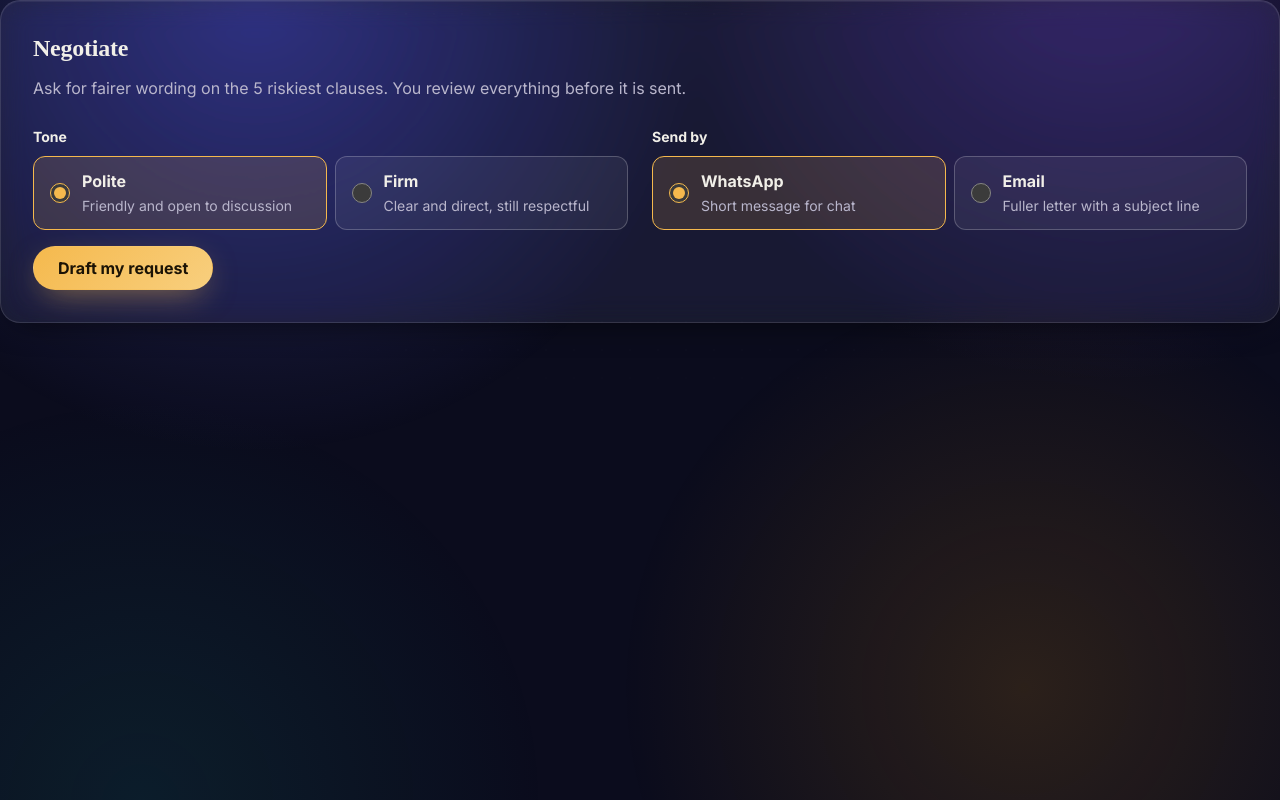
Test case: NegotiatePanel › drafts an email with the risky clauses and shows current → fairer wording
The width and height of the screenshot is (1280, 800).
Click the radio button labelled "Firm Clear and direct, still respectful": click(362, 193) [352,183,372,203]
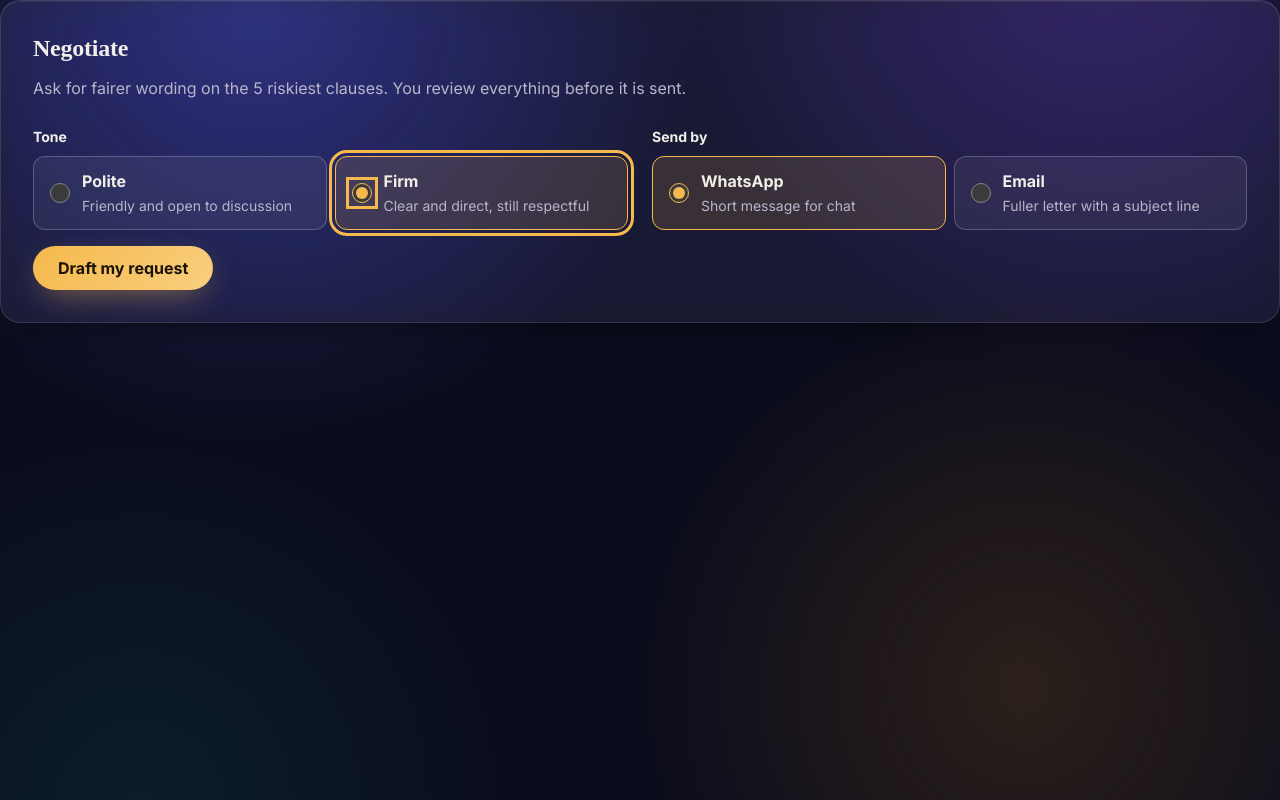
Click the radio button labelled "Email Fuller letter with a subject line": click(980, 193) [970,183,990,203]
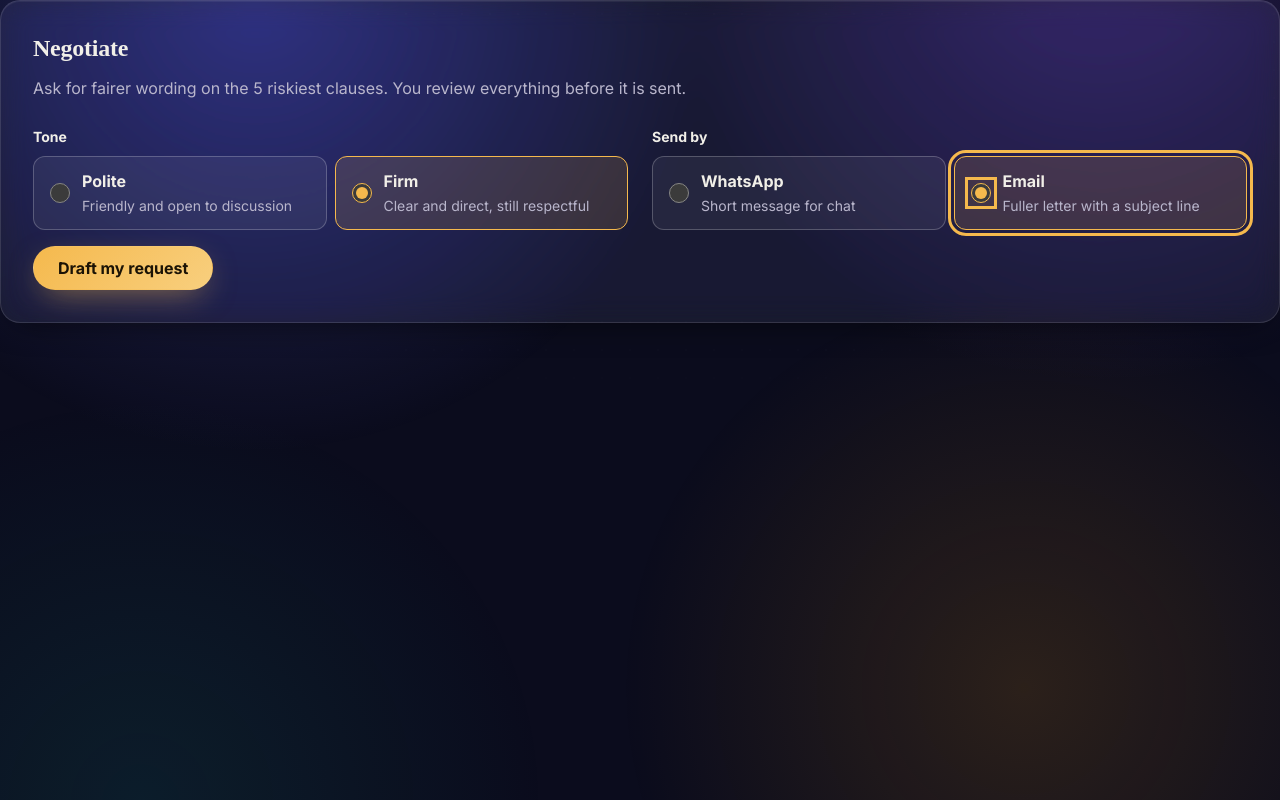
Click the button "Draft my request": click(123, 268) [33,246,213,290]
(page scrolled)
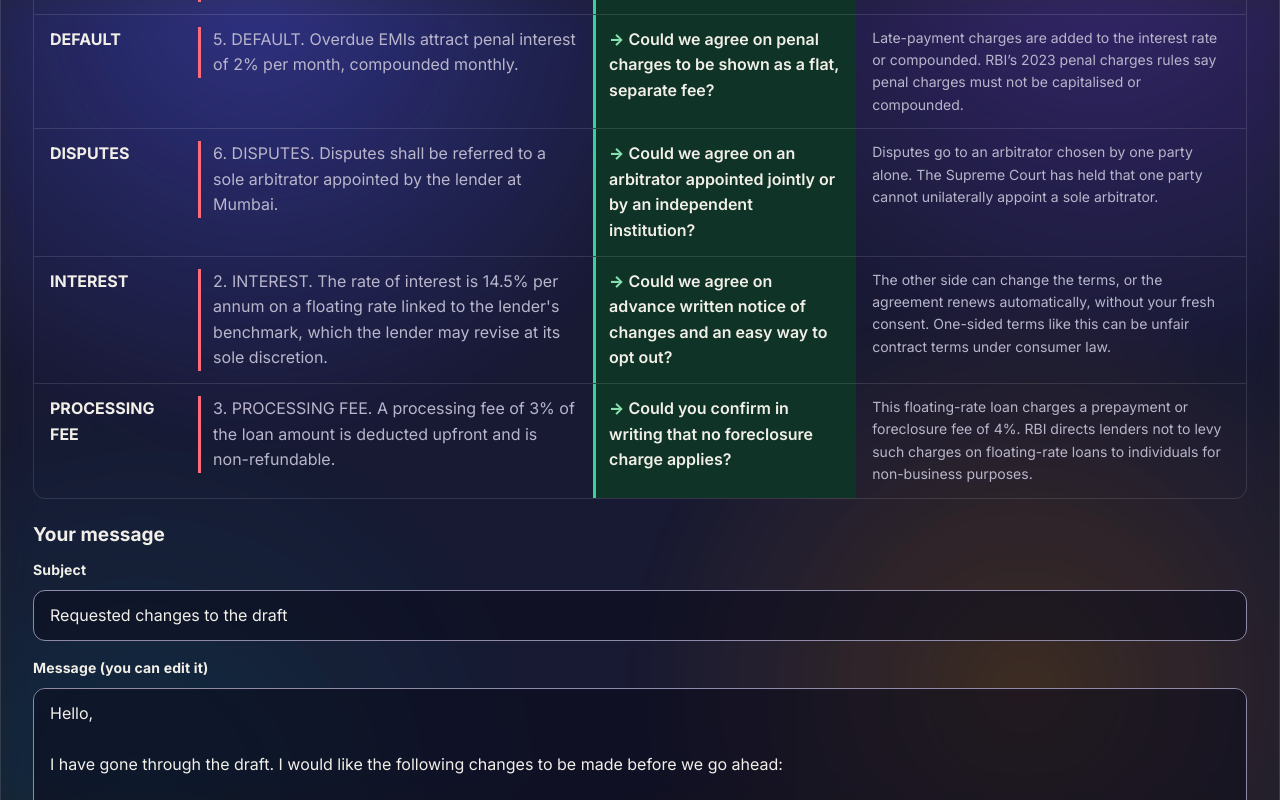
Expected: the row "DEFAULT" is shown, [34,14,1246,129]
Expected: the row "DEFAULT" shows "Late-payment charges are added to the interest rate or compounded. RBI’s 2023 penal charges rules say penal charges must not be capitalised or compounded.", [872,29,1217,113]
Expected: the row "DISPUTES" is shown, [34,129,1246,256]
